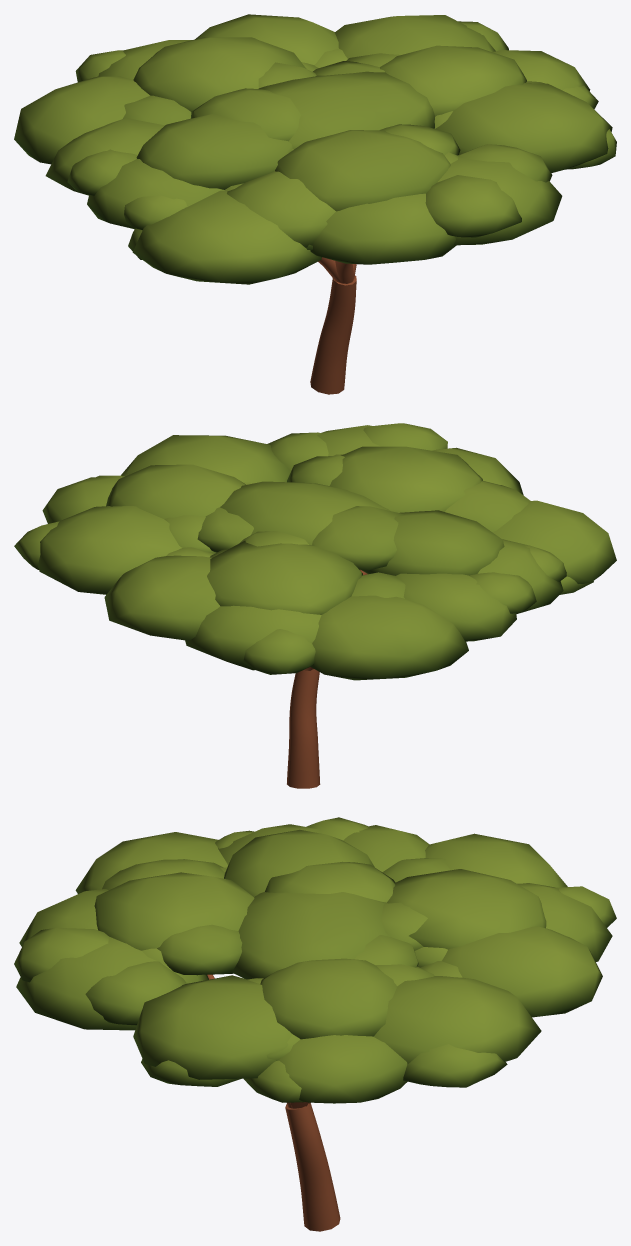
File: acacia_umbrella.glb
3 views of the same model, one above another, from view 1: azimuth 30°, elevation 25°; view 2: azimuth 150°, elevation 25°; view 3: azimuth 270°, elevation 25° (orthographic). The views are drawn at different scales.
Visible parts, largest first — view 1: acacia_umbrella_leaves, acacia_umbrella_bark; view 2: acacia_umbrella_leaves, acacia_umbrella_bark; view 3: acacia_umbrella_leaves, acacia_umbrella_bark.
Boxes of the visible parts, box(x1,y1,x2,y2) form: acacia_umbrella_leaves: box(14, 14, 616, 284); acacia_umbrella_bark: box(310, 257, 356, 394); acacia_umbrella_leaves: box(14, 423, 616, 680); acacia_umbrella_bark: box(287, 569, 367, 788); acacia_umbrella_leaves: box(14, 817, 616, 1103); acacia_umbrella_bark: box(207, 974, 340, 1231).
Bounding box in the file's own units: 21.01 × 11.98 × 20.55.
